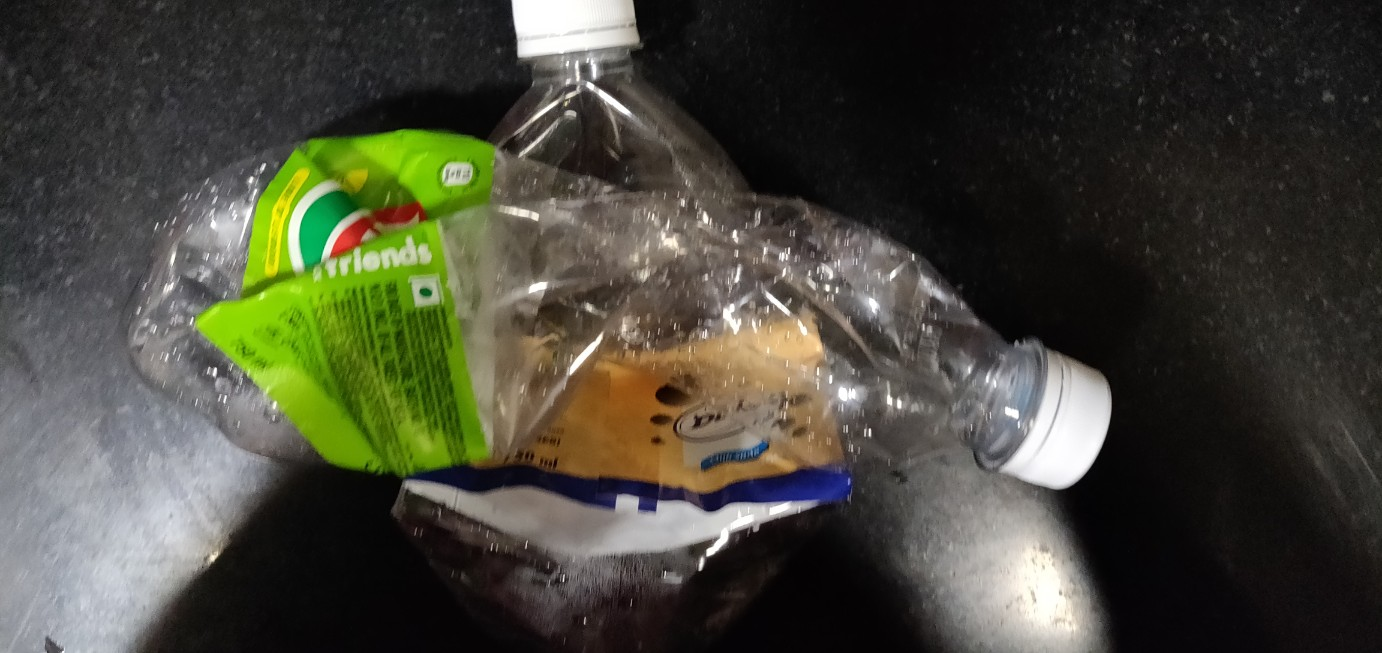Electronics: (99, 81, 1147, 562), (356, 1, 913, 644)
